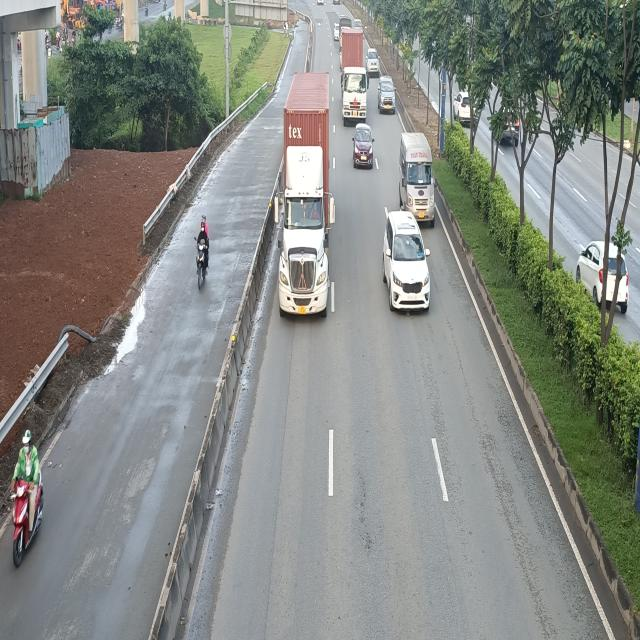car: (384, 213, 432, 315), (352, 124, 375, 168), (378, 76, 397, 114)
container: (274, 76, 333, 316), (342, 30, 370, 127)
van: (398, 130, 436, 225)
